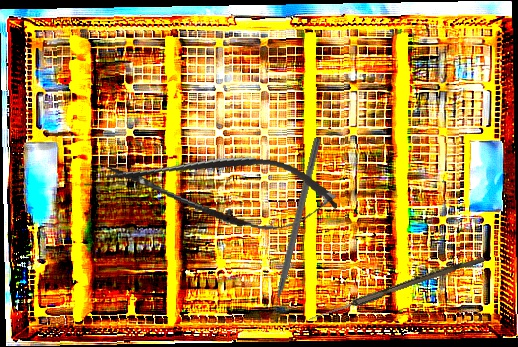Chopper: (258, 135, 322, 324)
Micro Scissor: (101, 137, 342, 241)
Surgical Spoon: (308, 252, 485, 325)
